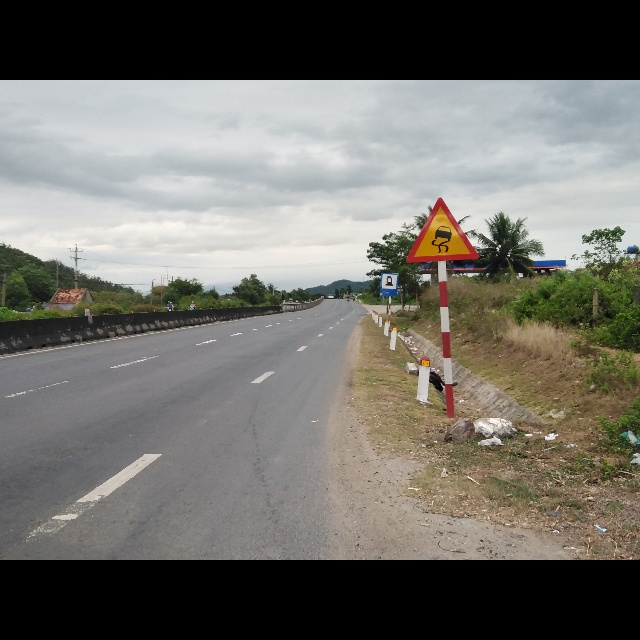Đường trơn trượt: (407, 196, 481, 264)
